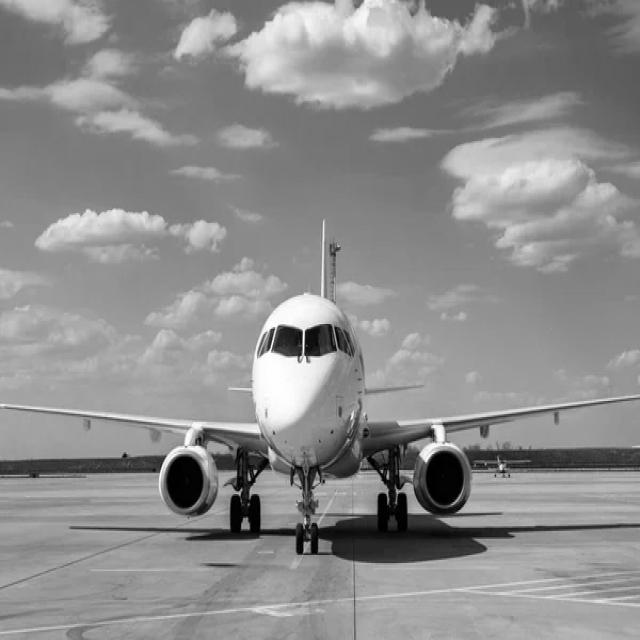Aircraft: (4, 272, 640, 547)
